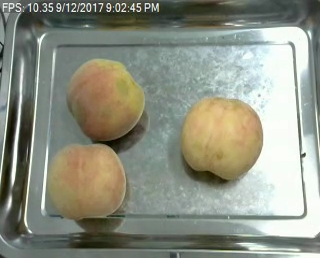Peach: (179, 95, 263, 180), (66, 57, 145, 140), (48, 143, 127, 220)
